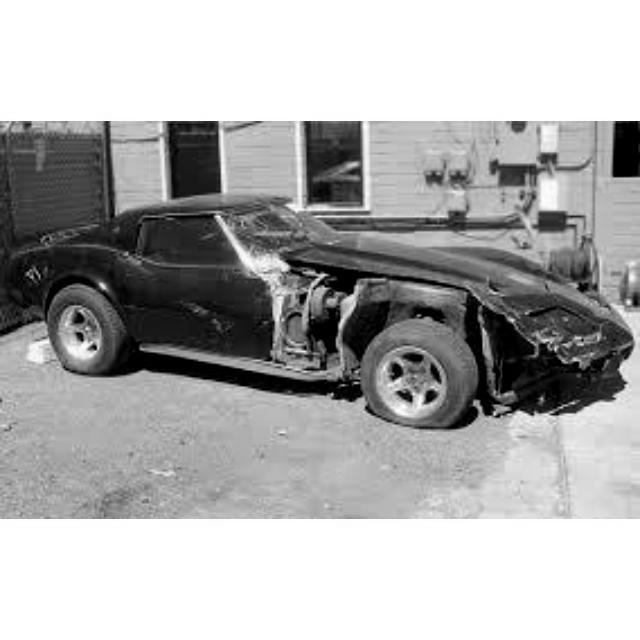Front-windscreen-damage: (230, 203, 290, 281)
bonnet-dent: (309, 221, 514, 299)
